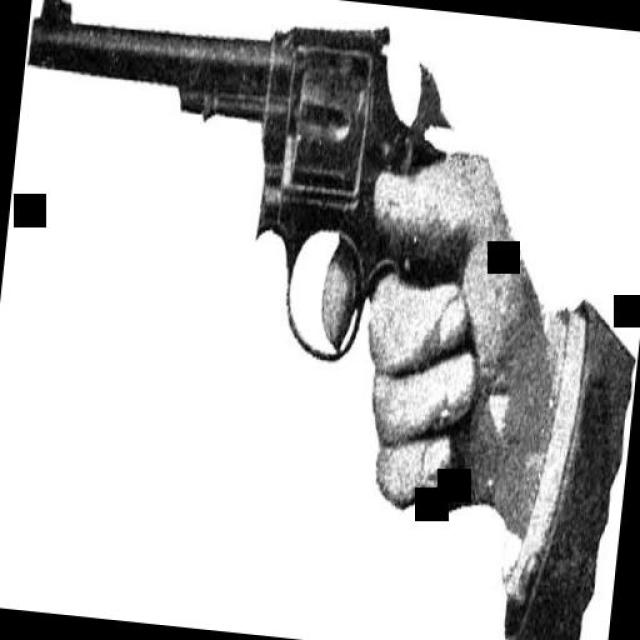gun: (0, 0, 519, 524)
